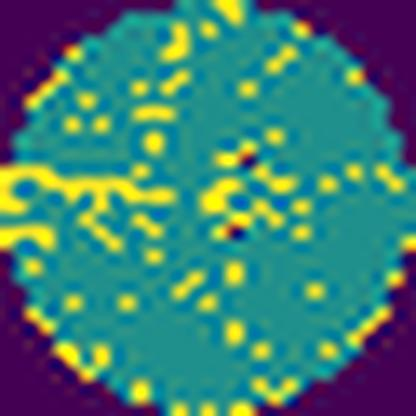Scratch: (0, 161, 182, 257)
